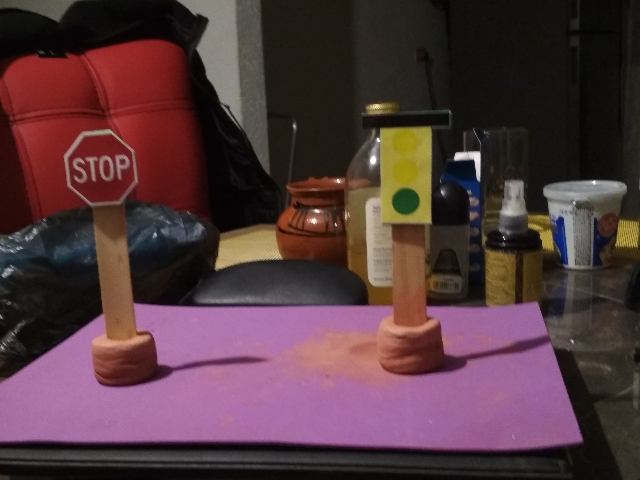Green: (360, 107, 452, 225)
Stop: (61, 130, 140, 208)
